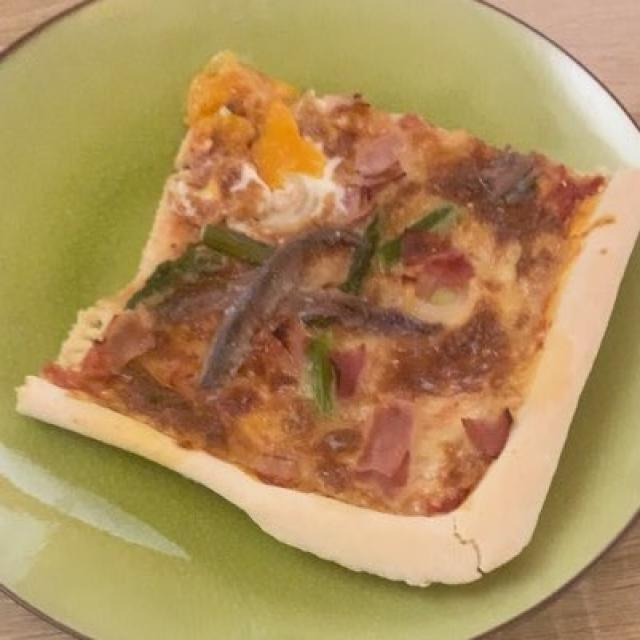pizza: (42, 55, 596, 518)
